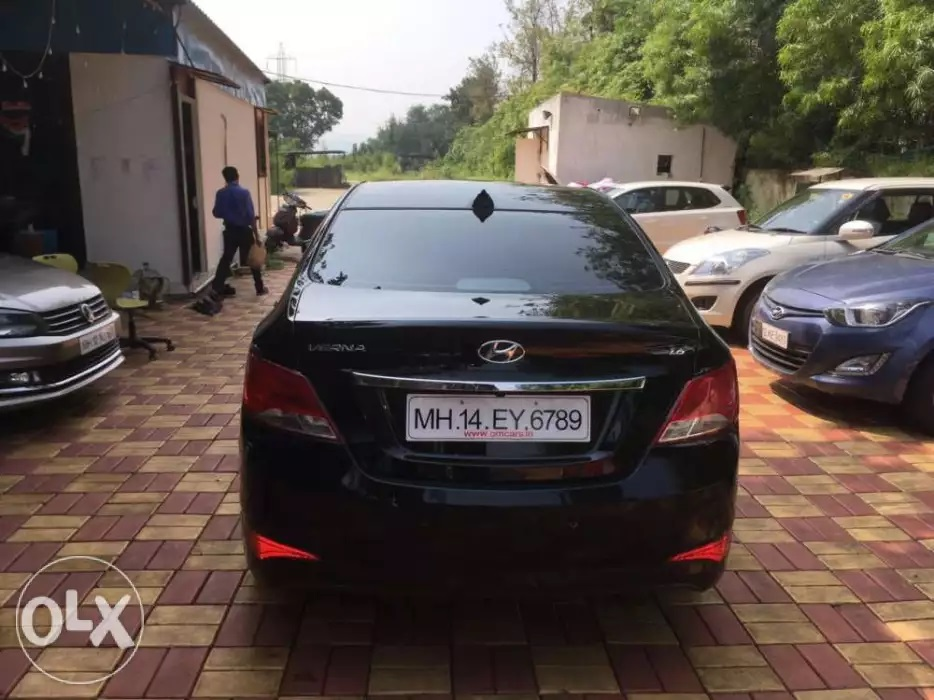licenseplate: (400, 389, 599, 445)
